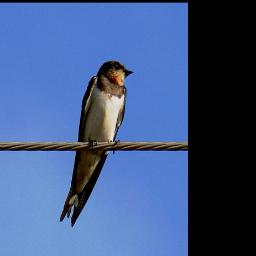Swallow: (55, 58, 138, 227)
